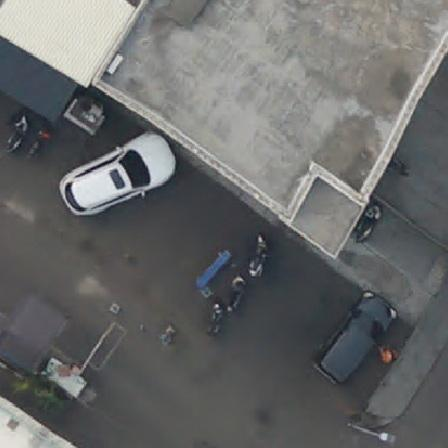Car: (61, 133, 176, 215), (313, 291, 396, 380)
Motorcycle: (22, 126, 59, 166), (350, 200, 382, 245), (221, 276, 254, 319), (247, 233, 268, 278), (204, 306, 230, 340), (2, 109, 23, 151)
